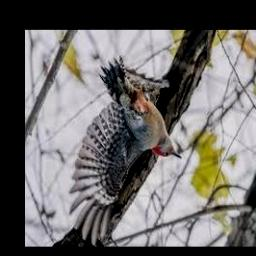Woodpecker: (69, 58, 181, 247)
